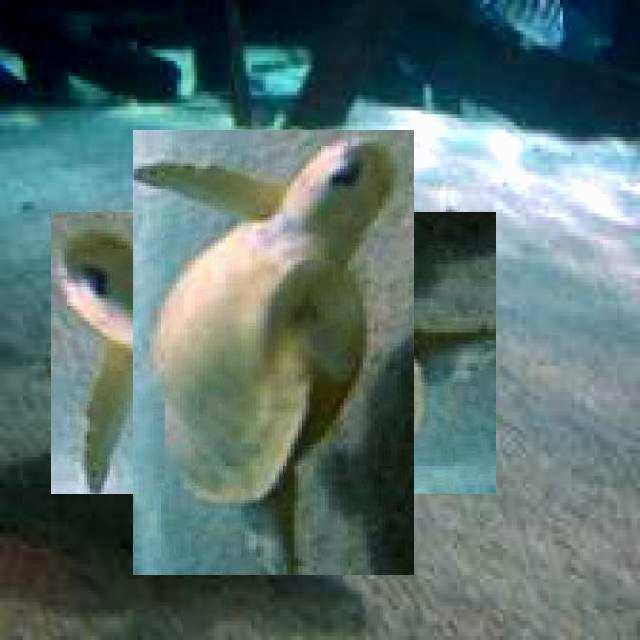Sea turtle: (92, 171, 455, 535)
